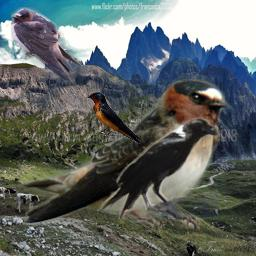Crow: (96, 114, 218, 218)
Swallow: (18, 73, 236, 233), (10, 7, 83, 84), (85, 92, 141, 144)
